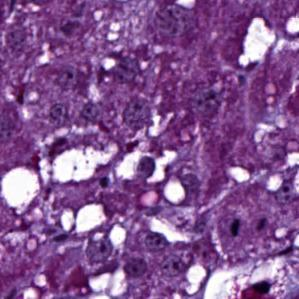ballooning: (200, 252, 295, 296)
